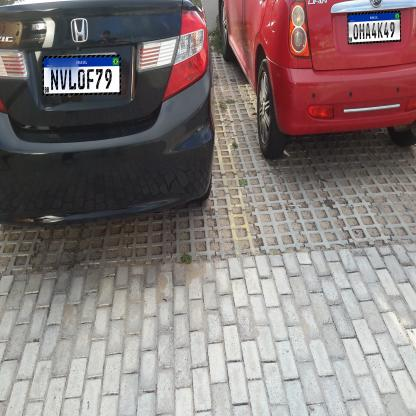PlacaM: (42, 54, 121, 96), (347, 10, 401, 44)
